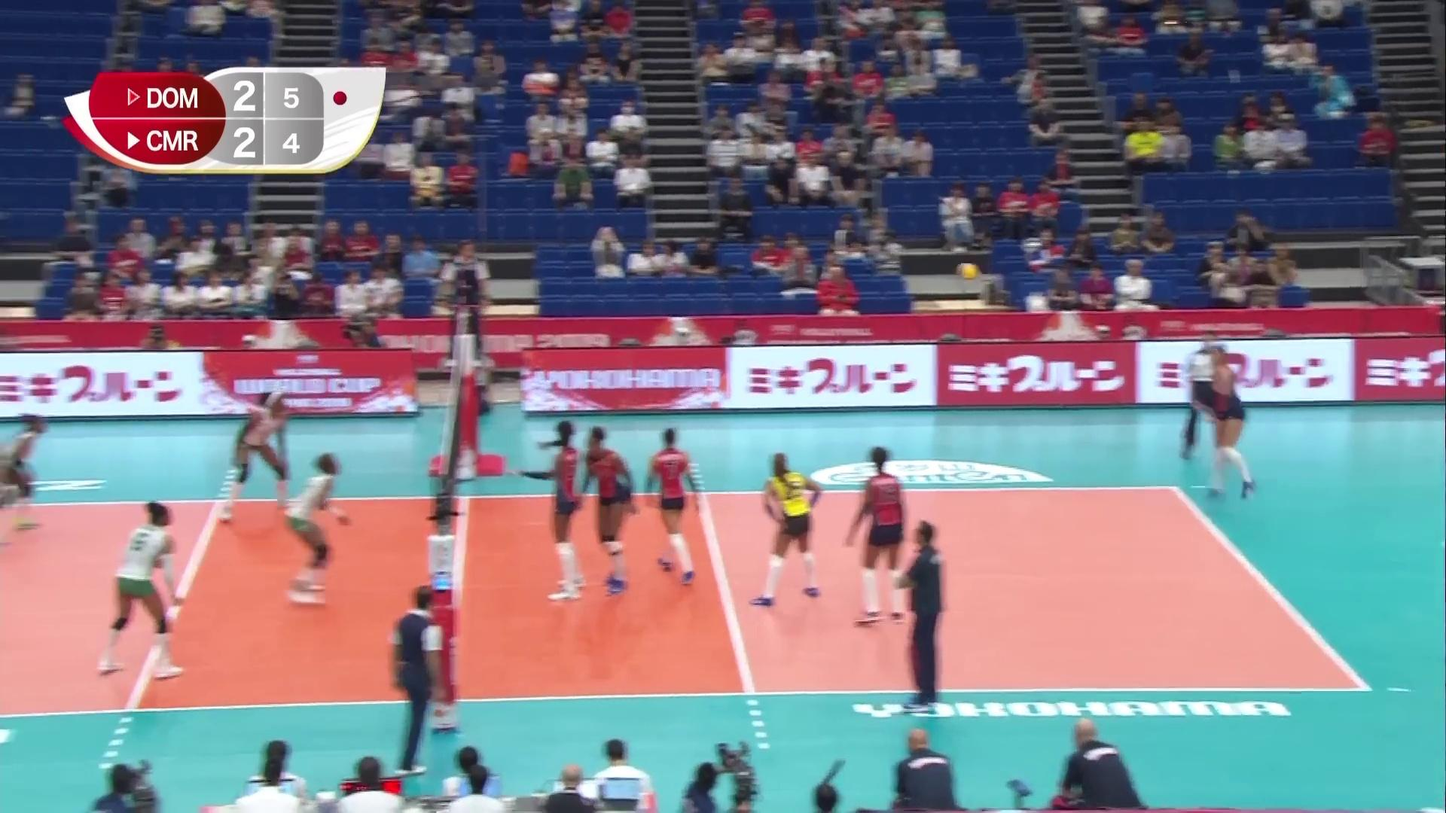player: (97, 503, 184, 678), (513, 419, 585, 601), (844, 447, 907, 625), (751, 454, 822, 607), (577, 425, 637, 594), (218, 392, 293, 524), (644, 429, 705, 584), (284, 452, 344, 605), (1196, 341, 1253, 498), (0, 417, 52, 535)
refree: (389, 585, 447, 775), (1179, 330, 1234, 462), (439, 237, 490, 371)
